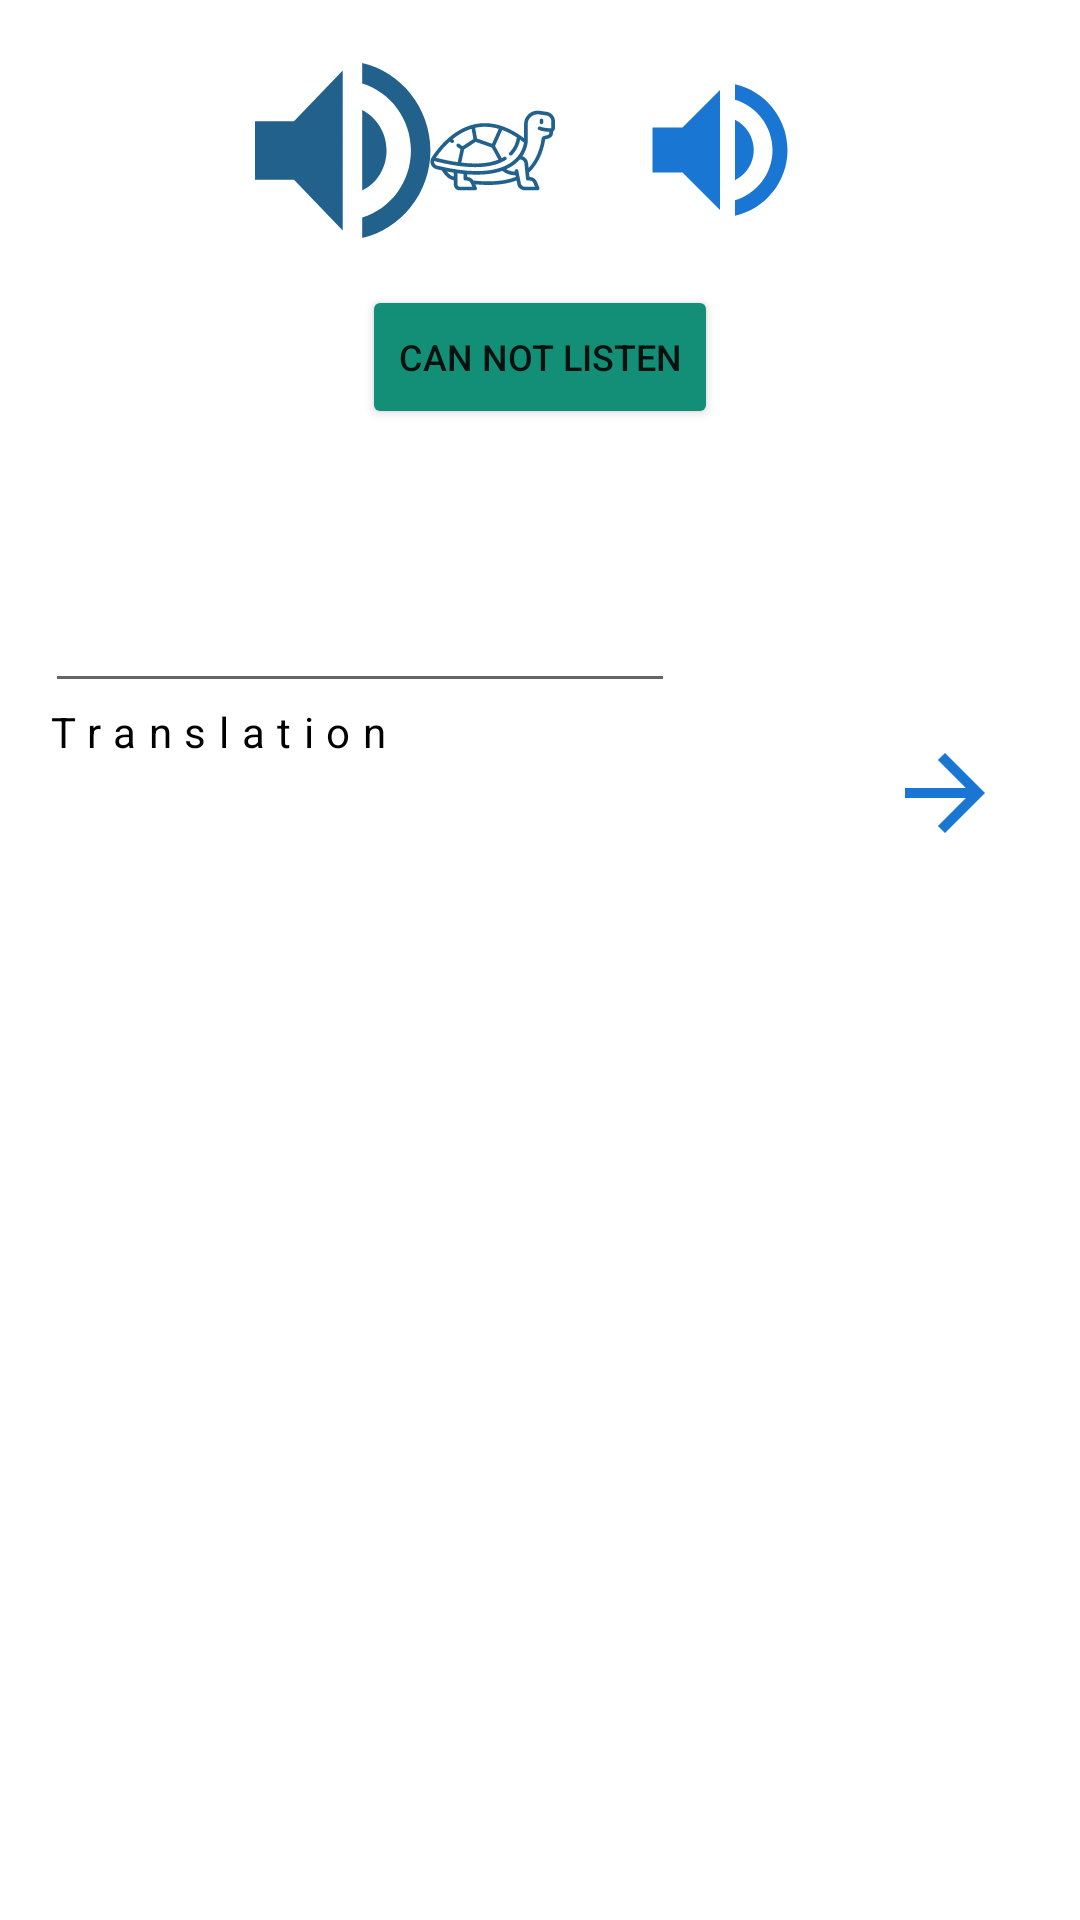

Icon click points for this 1080×1920 phone screenshot, format [x,y]:
arrow forward: [945,793]
volume up: [720,150]
volume up turtle: [405,150]
